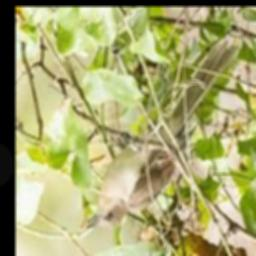Cuckoo: (87, 38, 239, 230)
